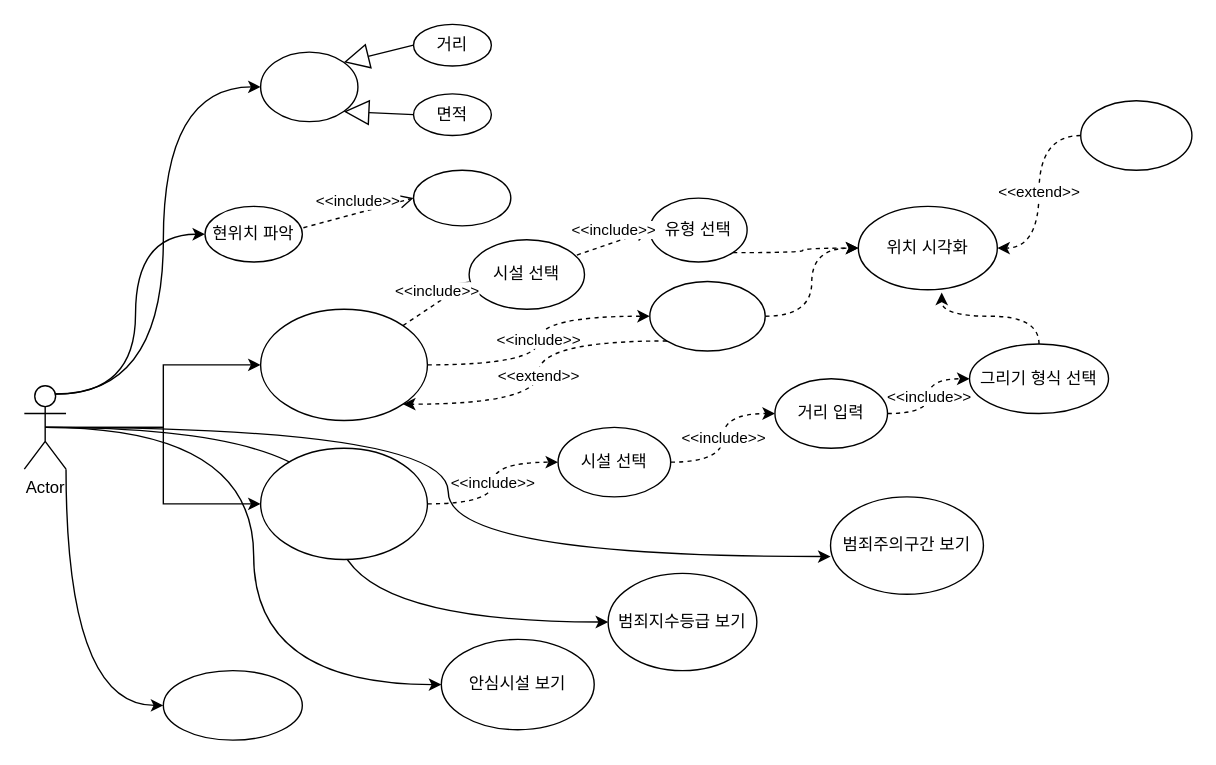
Image size: 1216x765. Some labels were removed from this diagram. The centre of each missing label's shape, as x and y in pixels:
"권한 허용" goes at (461,197).
"배경지도 선택" goes at (232,704).
"분류검색" goes at (343,364).
"자치구 선택" goes at (706,315).
"주변검색" goes at (343,503).
"측정" goes at (308,86).
"팝업정보창" goes at (1135,134).
